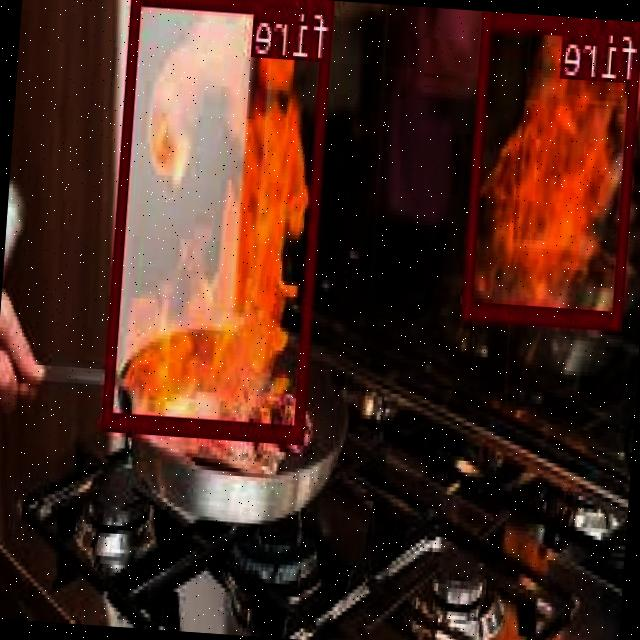fire: (103, 0, 336, 441), (463, 11, 640, 327)
